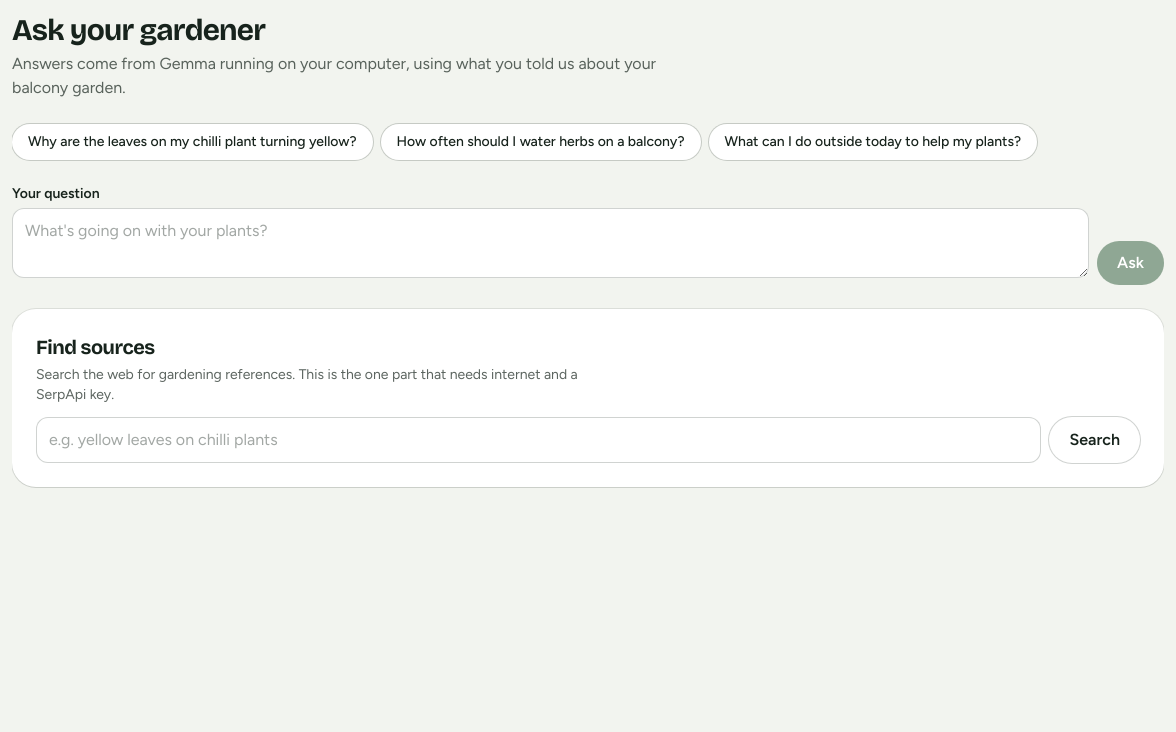
Test: AIChat › explains how to fix an unavailable model and keeps the question
The image size is (1176, 732).
Type "Hello?" into the text box labelled "Your question" at (551, 243), box 12,208 -> 1089,278
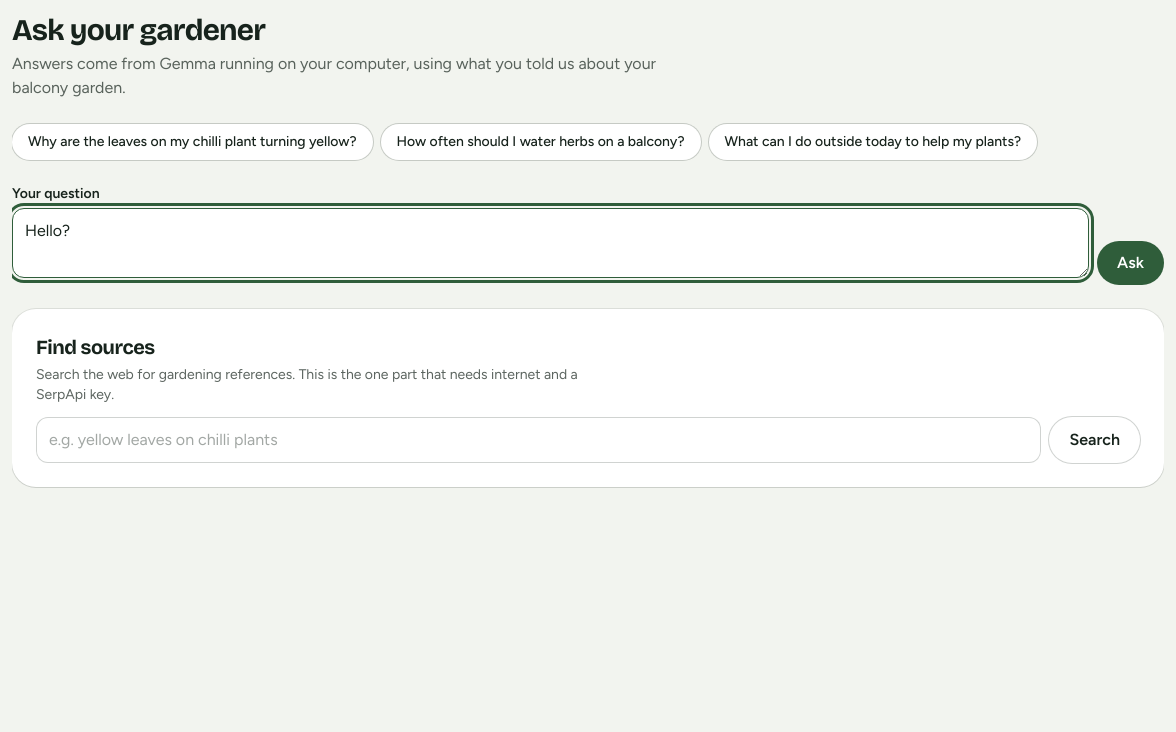
Click the button "Ask" at (1131, 263), box 1097,241 -> 1164,285
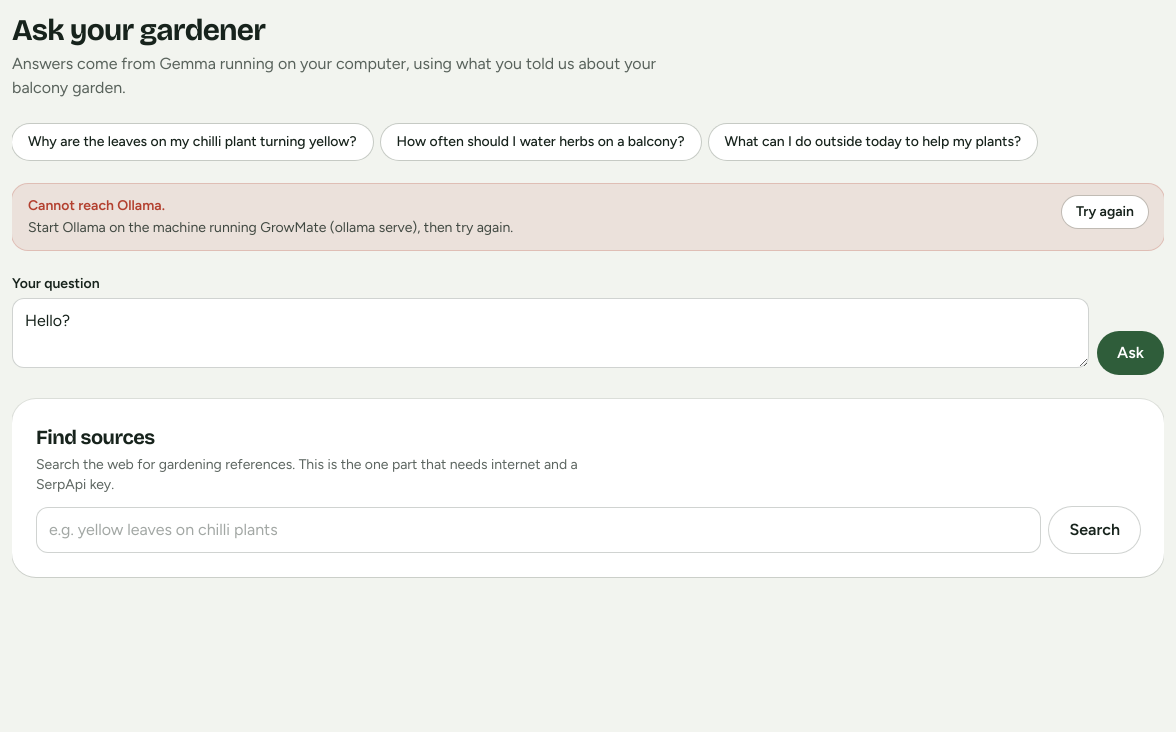
Now the text "Cannot reach Ollama." is shown, box 28,197 -> 165,214
Now the text "ollama serve" is shown, box 28,219 -> 513,236
